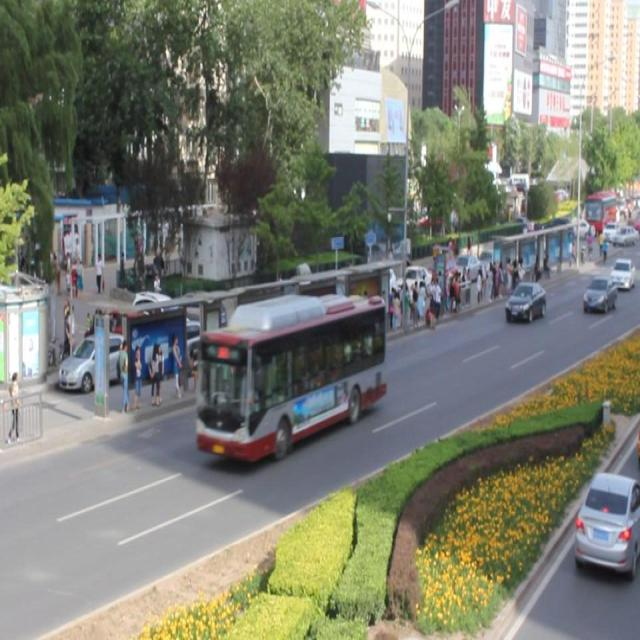car: (505, 279, 545, 321), (581, 274, 614, 310)
van: (198, 292, 384, 455)
